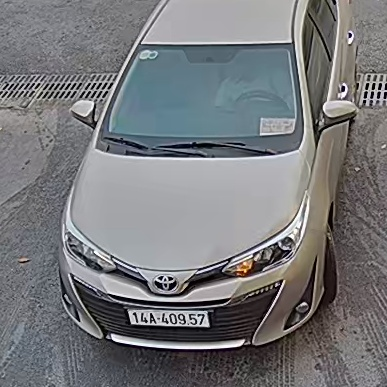vehicle plate: (125, 305, 213, 331)
